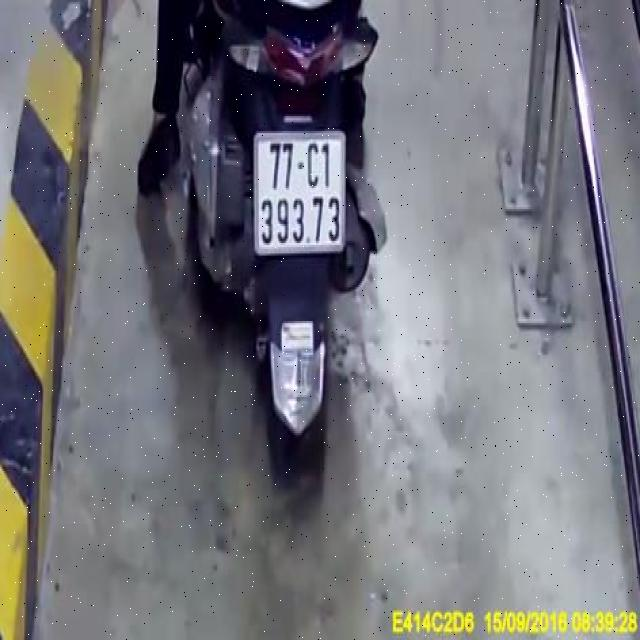1: (322, 143, 330, 187)
3: (328, 197, 340, 242), (261, 199, 272, 243), (294, 199, 304, 243)
7: (269, 144, 280, 188), (312, 197, 323, 240), (282, 142, 292, 188)
9: (277, 199, 288, 244)
C: (307, 142, 318, 186)
